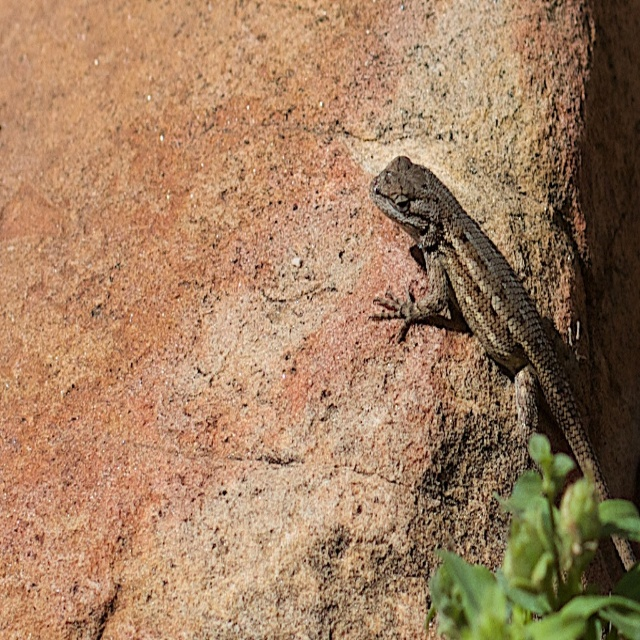Lizard: (364, 165, 616, 507)
